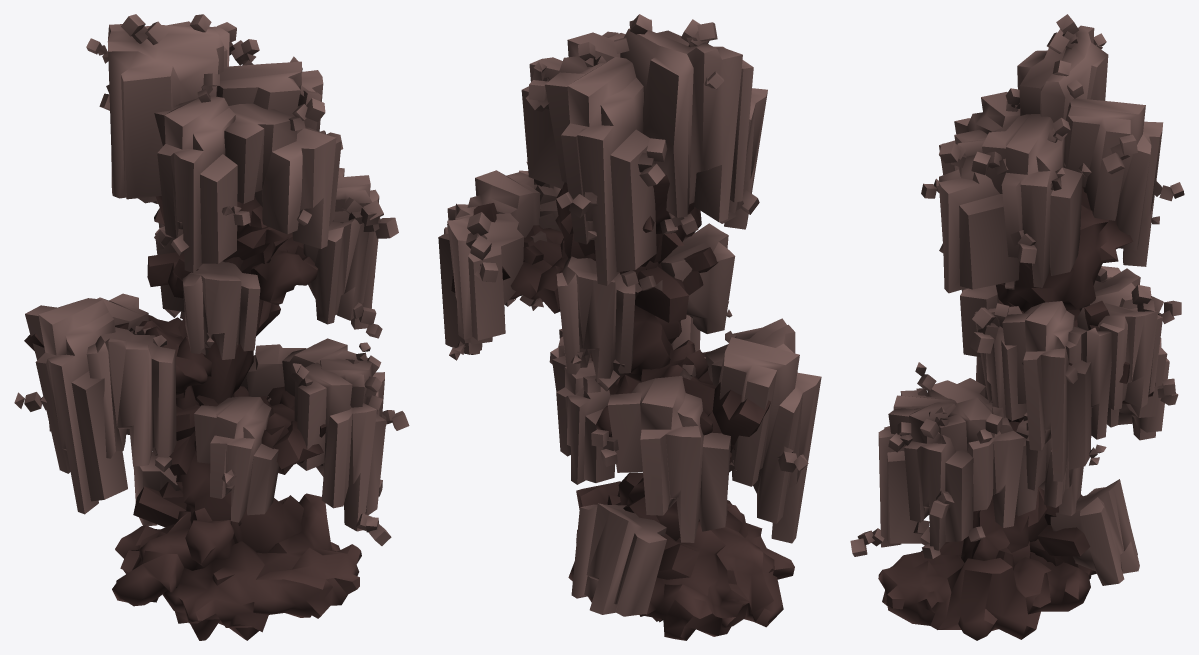
File: hvs_farmables_sodium_lod1.fbx
The picture shows the model from 3 angles, left to right: view 1: azimuth 30°, elevation 25°; view 2: azimuth 150°, elevation 25°; view 3: azimuth 270°, elevation 25°; orthographic projection. The views are drawn at different scales.
Parts seen in each view (by area): view 1: lod0_hvs_farmables_sodium.001; view 2: lod0_hvs_farmables_sodium.001; view 3: lod0_hvs_farmables_sodium.001.
Boxes of the visible parts, x1,y1,x2,y2 form: lod0_hvs_farmables_sodium.001: [14, 14, 409, 640]; lod0_hvs_farmables_sodium.001: [438, 14, 821, 640]; lod0_hvs_farmables_sodium.001: [850, 14, 1184, 640].
Size of the model in its own units: 10.26 by 16.85 by 8.73.
